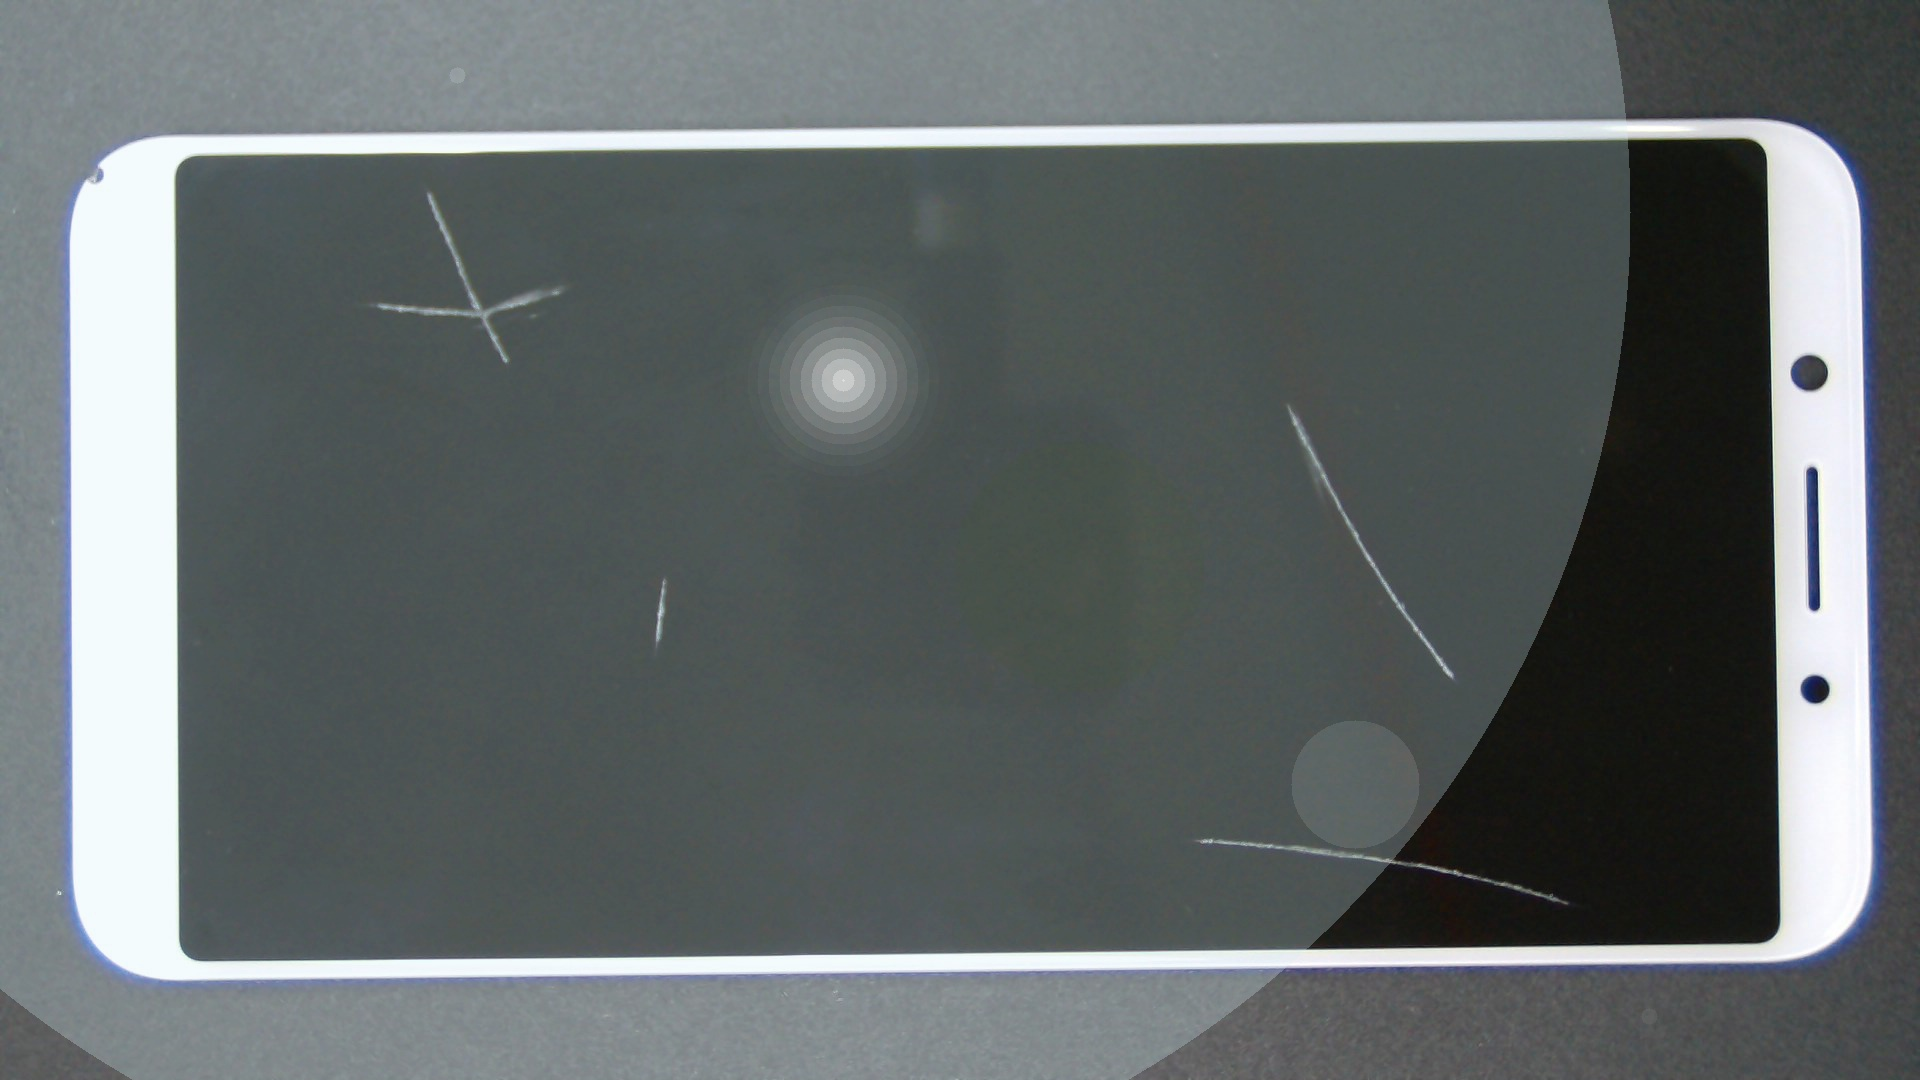oil: (604, 418, 1812, 1080), (645, 200, 1920, 605), (332, 287, 996, 866), (215, 95, 641, 287)
